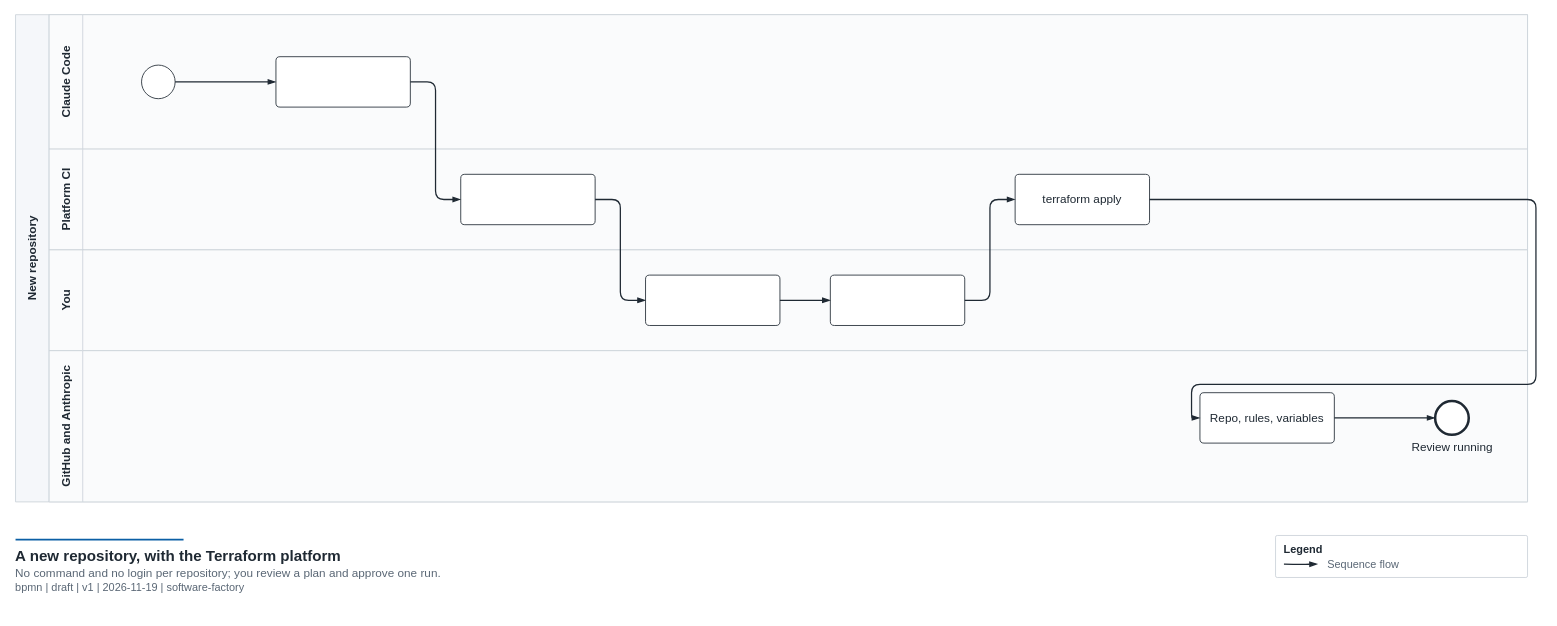
This 1557x626 diagram has some shape labels left out. Each missing label, with the centre of its shape:
"/factory-new" goes at [158,81].
"Approve the run" goes at [897,300].
"Open a platform PR" goes at [342,81].
"Review and merge" goes at [712,300].
"terraform plan" goes at [527,199].
